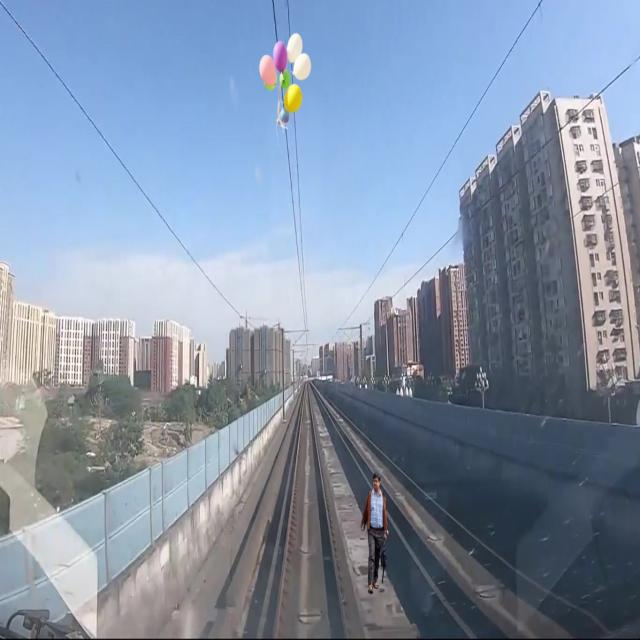balloon: (260, 32, 310, 116), (258, 51, 278, 89)
